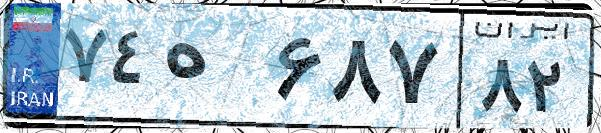2: (525, 38, 570, 115)
4: (110, 28, 158, 98)
6: (270, 28, 330, 110)
7: (385, 28, 445, 110), (57, 26, 110, 100)
8: (330, 28, 385, 110), (475, 38, 525, 113)
ه: (158, 20, 270, 120)
